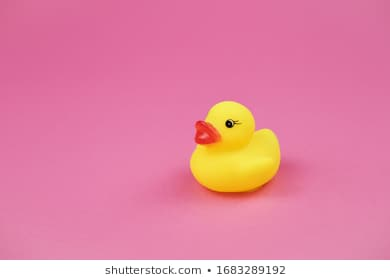duck: (177, 102, 291, 206)
